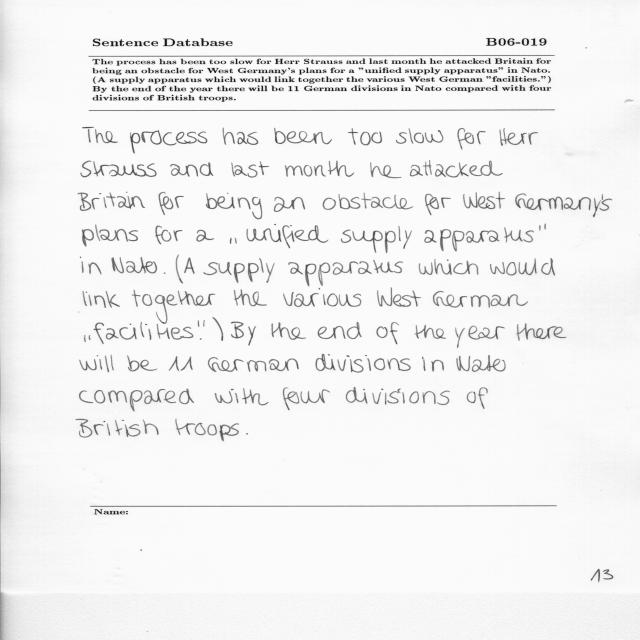word: (288, 260, 403, 286), (132, 290, 215, 324), (79, 389, 194, 412), (424, 228, 534, 252), (515, 194, 612, 218), (94, 322, 194, 344), (247, 224, 329, 248), (341, 226, 412, 253), (346, 387, 450, 405), (130, 130, 207, 154), (315, 354, 411, 373), (203, 258, 275, 283), (410, 160, 503, 178), (433, 291, 528, 308), (76, 419, 159, 438), (323, 193, 413, 210), (284, 288, 362, 307), (206, 193, 262, 219), (175, 419, 239, 441), (208, 357, 299, 372), (81, 161, 156, 178), (78, 192, 145, 211), (82, 225, 138, 247), (285, 160, 354, 177), (490, 258, 555, 276), (455, 326, 505, 348), (283, 388, 330, 411), (419, 259, 478, 275), (274, 128, 332, 144), (516, 323, 567, 341), (215, 388, 269, 405), (456, 355, 506, 372), (377, 288, 421, 307), (396, 128, 443, 144), (318, 322, 362, 339), (112, 257, 157, 273), (463, 192, 505, 209), (500, 128, 538, 146), (231, 161, 269, 178), (170, 162, 213, 177), (457, 128, 486, 150), (223, 127, 258, 145), (271, 322, 306, 340), (83, 291, 120, 308), (231, 322, 256, 346), (158, 192, 184, 215), (348, 128, 382, 145), (80, 355, 114, 372), (234, 290, 267, 307), (83, 127, 118, 143), (425, 194, 451, 215), (155, 226, 183, 245), (371, 163, 402, 179), (127, 356, 158, 372), (377, 322, 399, 344), (274, 197, 305, 212), (467, 387, 488, 409), (414, 325, 446, 339), (81, 257, 102, 275), (169, 356, 193, 371), (422, 357, 444, 372), (213, 317, 224, 341), (196, 230, 214, 242), (176, 255, 183, 283), (184, 257, 195, 274), (198, 320, 202, 340), (230, 238, 237, 244), (539, 224, 546, 230), (85, 335, 91, 342), (203, 320, 205, 327), (164, 272, 166, 274), (246, 433, 248, 435)
